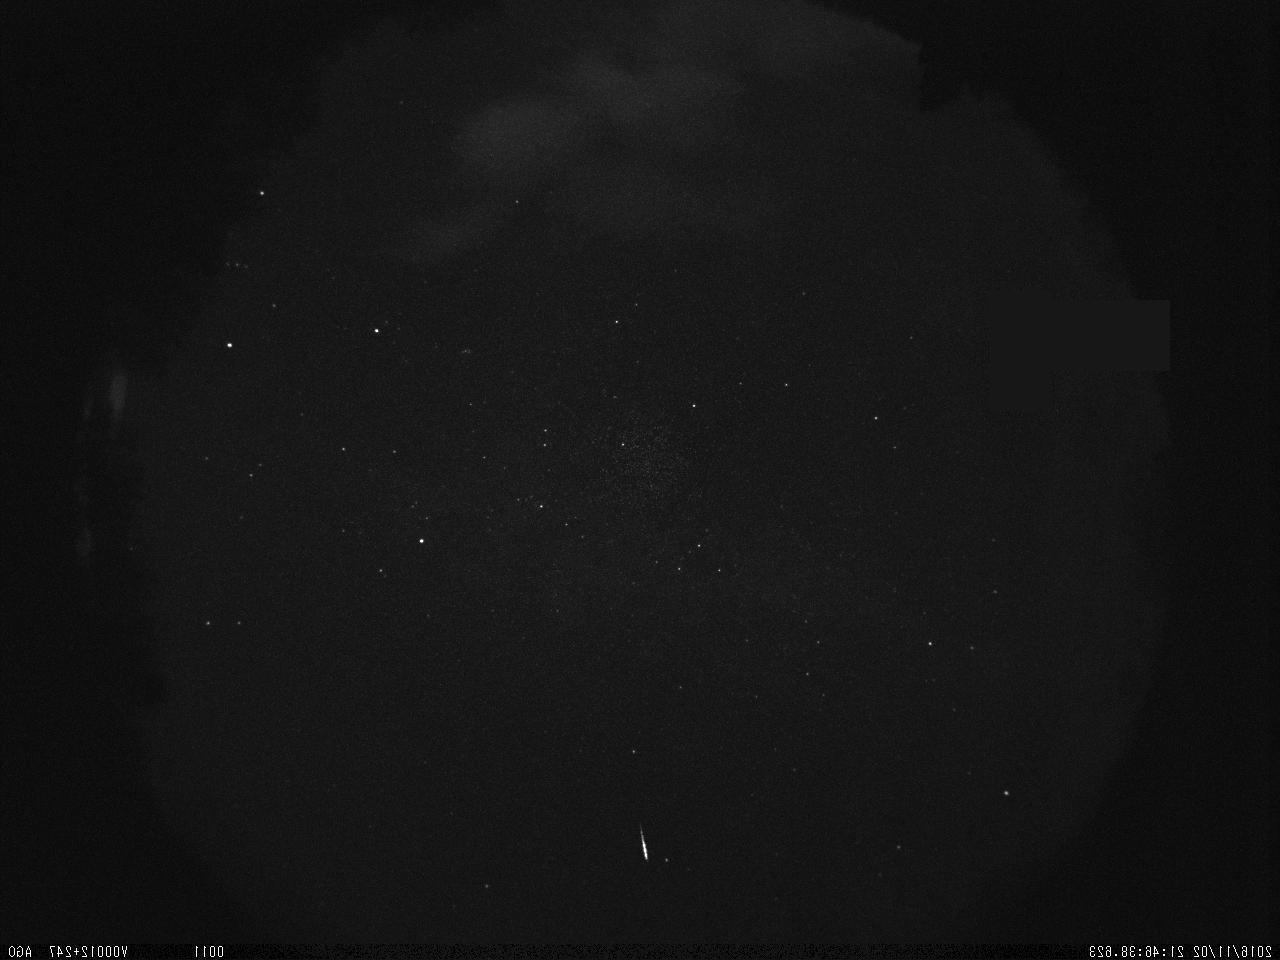meteor: (635, 829, 656, 866)
